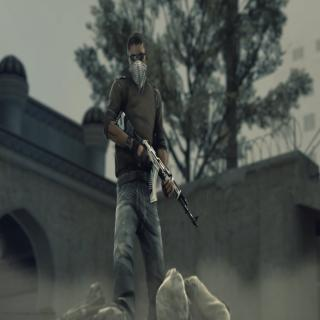T-Body: (104, 32, 165, 310)
T-Head: (128, 31, 147, 85)
